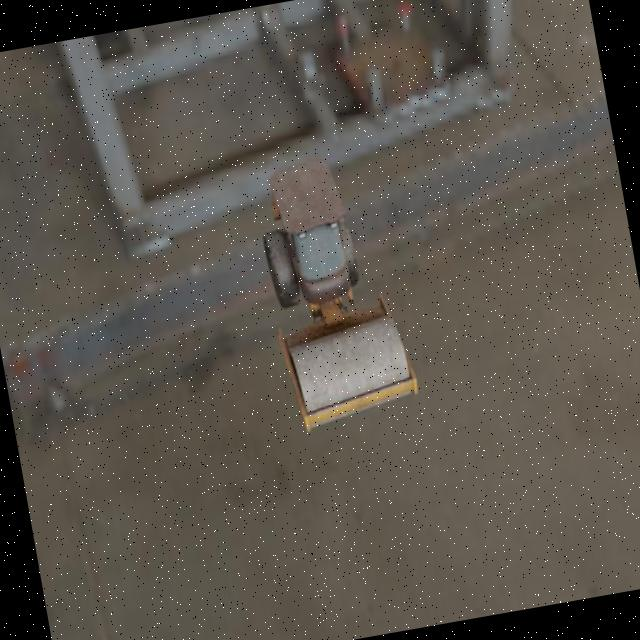Roller: (248, 147, 421, 434)
